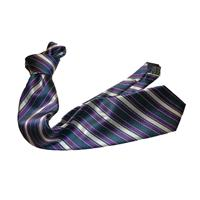tie: (18, 41, 185, 150)
